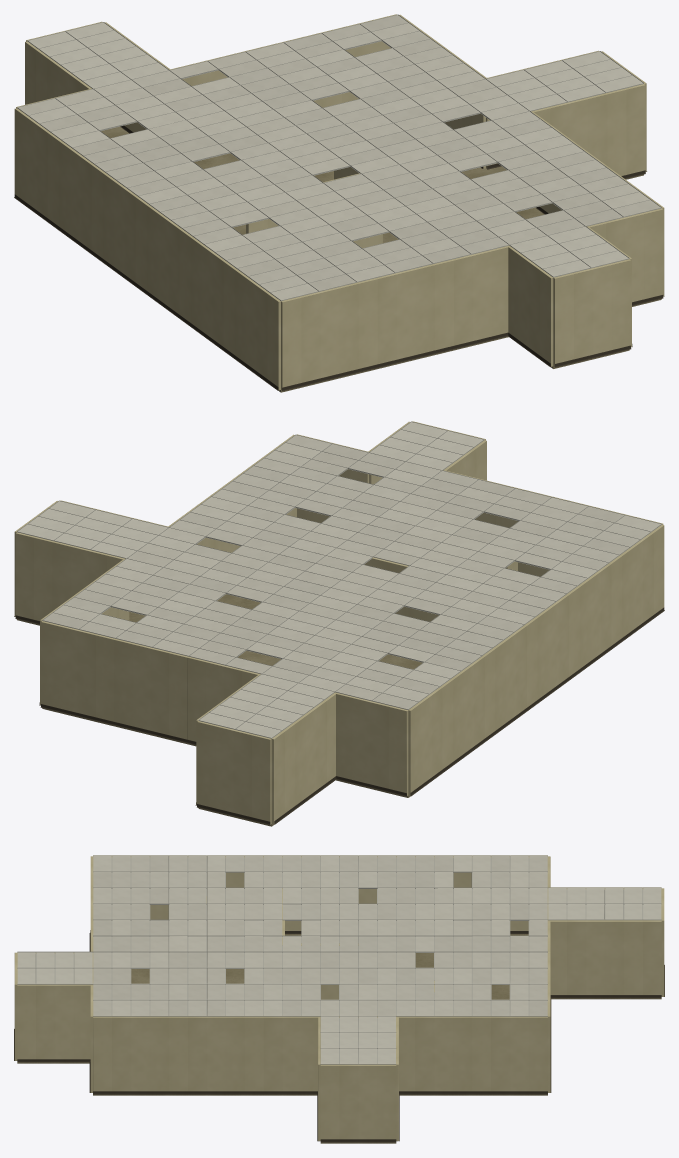
The model's file is room_m4_architecture.gltf.
3 views of the same model, one above another, from view 1: azimuth 30°, elevation 25°; view 2: azimuth 150°, elevation 25°; view 3: azimuth 270°, elevation 25° (orthographic). The views are drawn at different scales.
Visible parts, largest first — view 1: room_m4_architecture; view 2: room_m4_architecture; view 3: room_m4_architecture.
Boxes of the visible parts, left/top/right/bottom form: room_m4_architecture: left=14, top=14, right=664, bottom=392; room_m4_architecture: left=14, top=421, right=664, bottom=826; room_m4_architecture: left=14, top=855, right=664, bottom=1143.
Bounding box in the file's own units: 16.07 × 2.83 × 20.95.
Materials: 6 (6 with a texture image).
